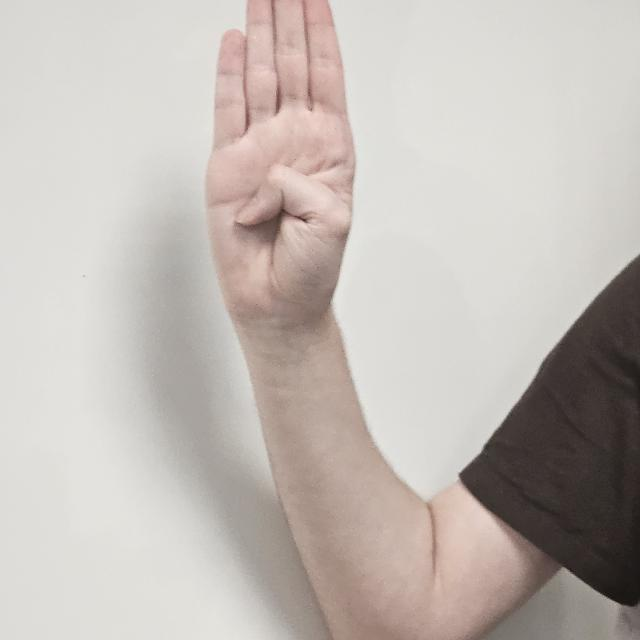Baixo: (208, 2, 364, 362)
